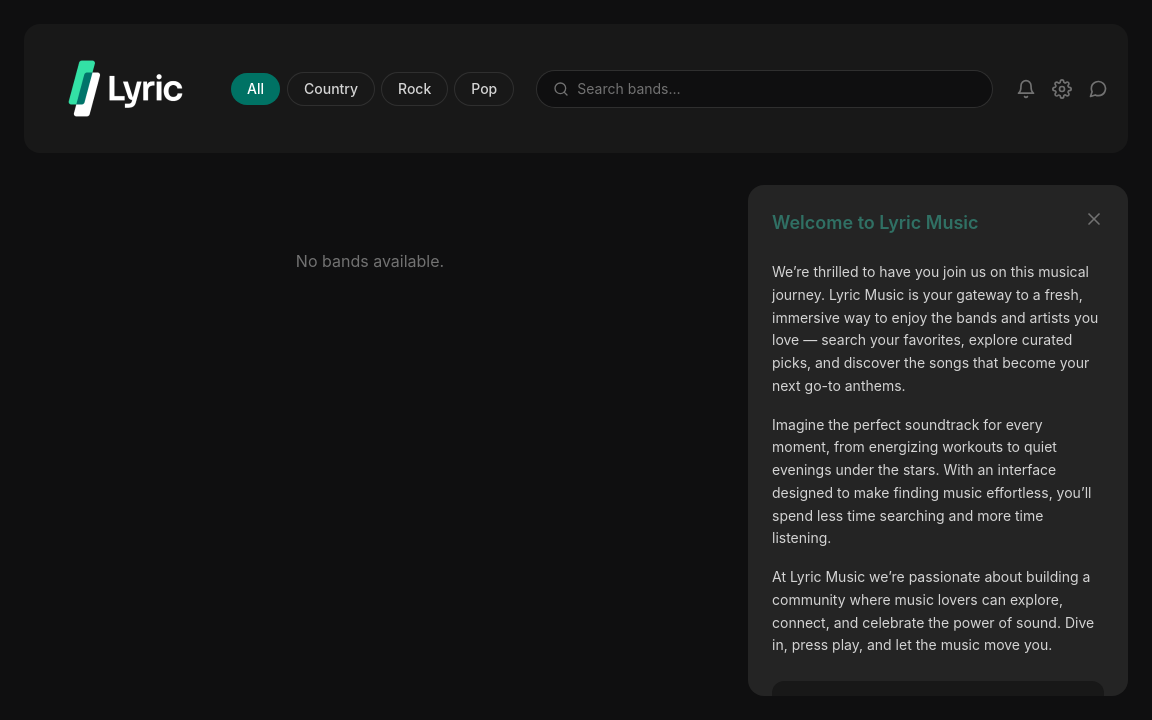
it: App — welcome panel collapse (stretch goal) › closes the welcome panel and shows a reopen control
Expected: the heading "Welcome to Lyric Music" is shown, x1=772 y1=209 x2=979 y2=237
# Close it.
Click the button named "close welcome panel" at (1094, 219), box x1=1084 y1=209 x2=1104 y2=229
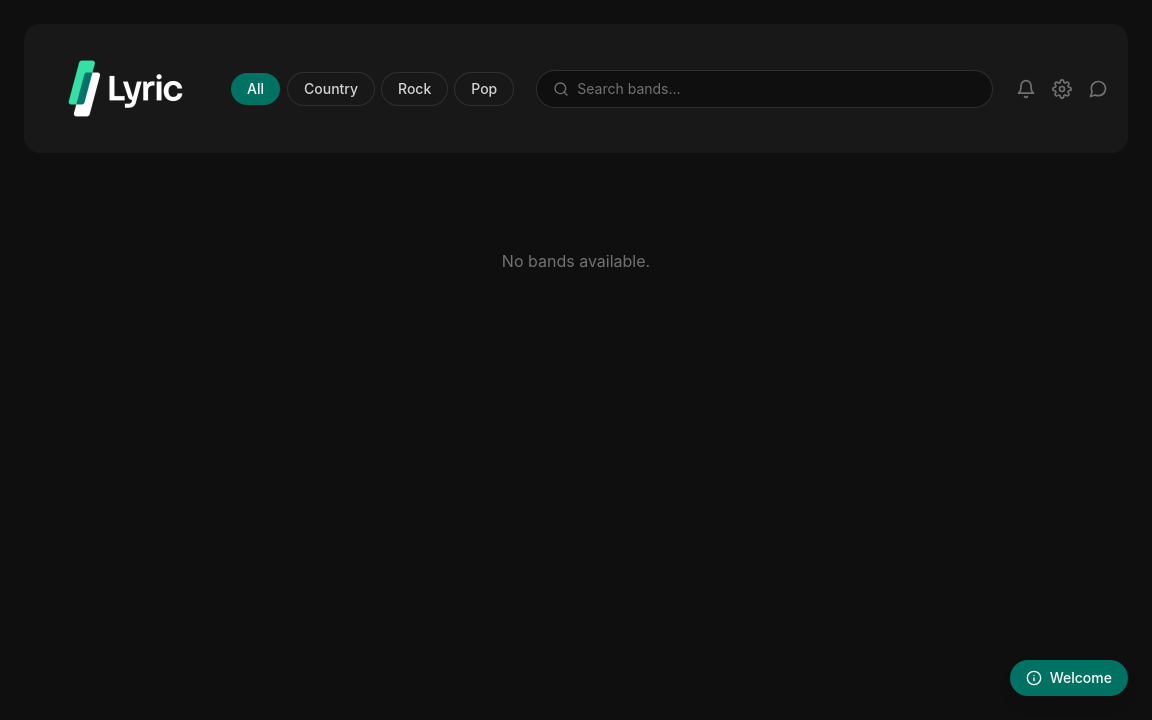
Expected: the button "Welcome" is shown, x1=1010 y1=660 x2=1128 y2=696
Expected: the heading "Welcome to Lyric Music" is gone
